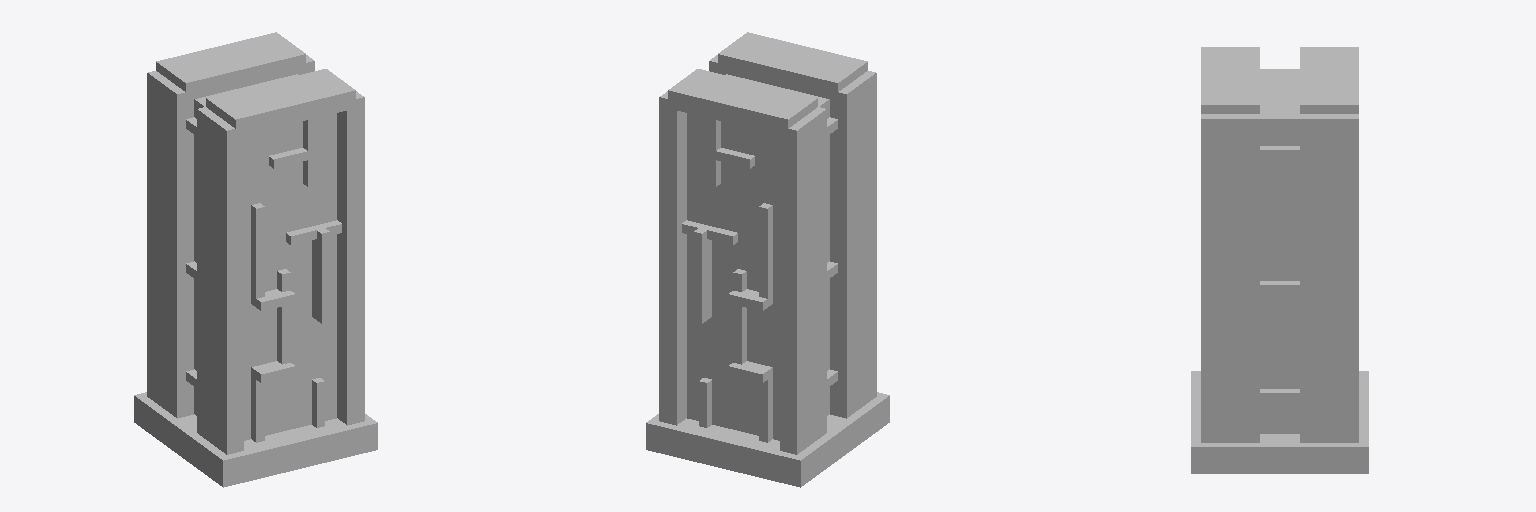
File: building1.obj
3 renders of one model, left to right at view 1: azimuth 30°, elevation 25°; view 2: azimuth 150°, elevation 25°; view 3: azimuth 270°, elevation 25°, orthographic.
Parts seen in each view (by area): view 1: object 1; view 2: object 1; view 3: object 1.
Part boxes in pixels (left/top/right/bottom): object 1: left=134, top=32, right=377, bottom=487; object 1: left=646, top=32, right=889, bottom=487; object 1: left=1191, top=47, right=1368, bottom=473.
Size of the model in its own units: 1.8 by 4 by 1.8.